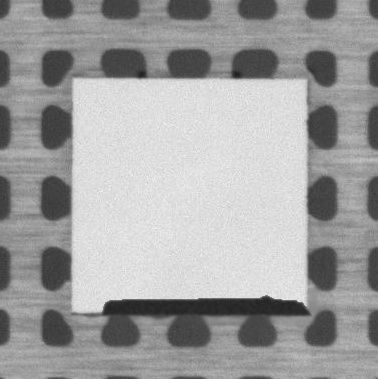DIE_BROKEN: (102, 292, 313, 317)
